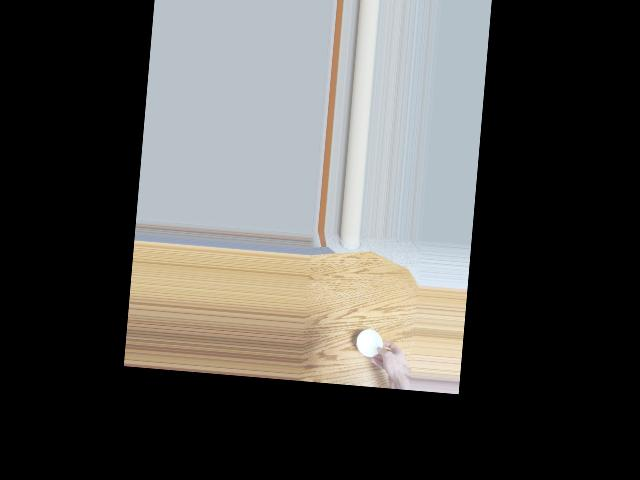cotage: (354, 327, 388, 365)
